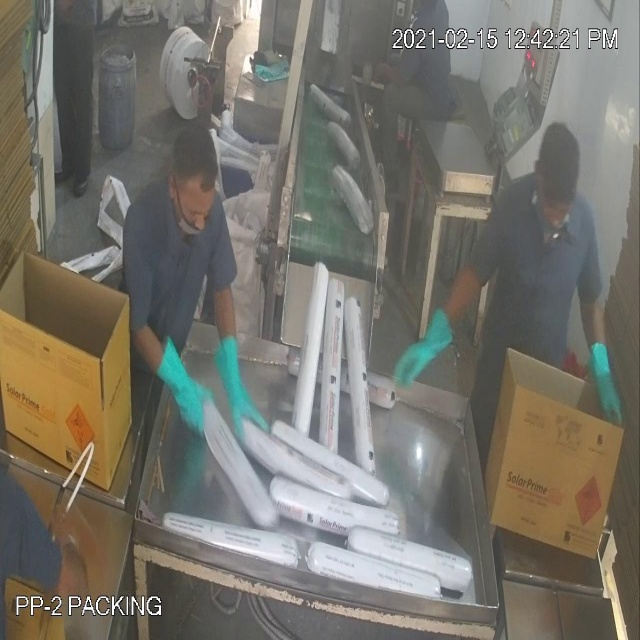Guantes: (152, 315, 213, 456), (203, 327, 268, 451), (390, 302, 460, 404), (577, 332, 630, 429)
Sin_guantes: (27, 492, 91, 609)
